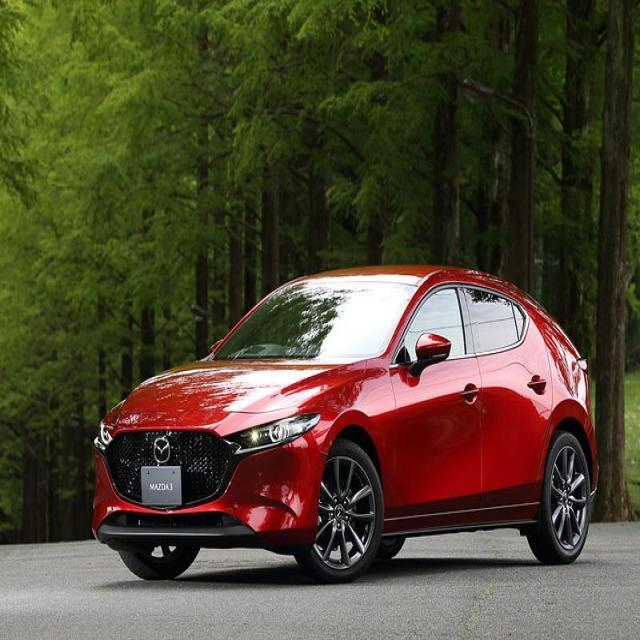Hatchback: (94, 265, 600, 585)
